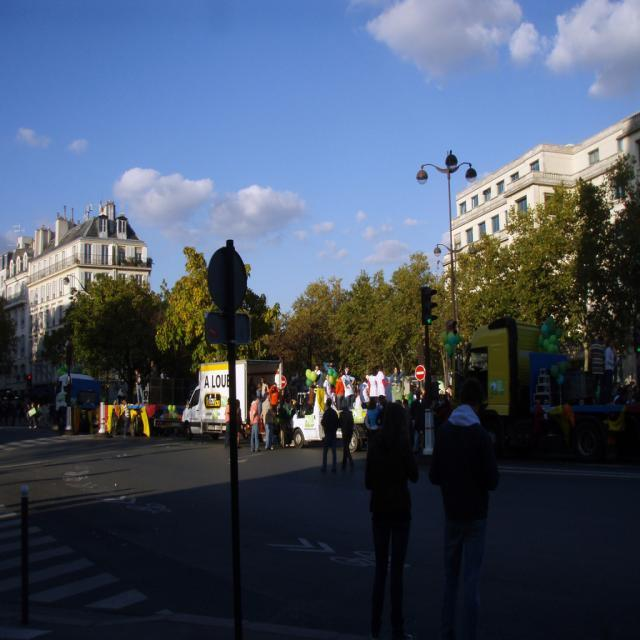traffic light: (421, 284, 438, 326)
